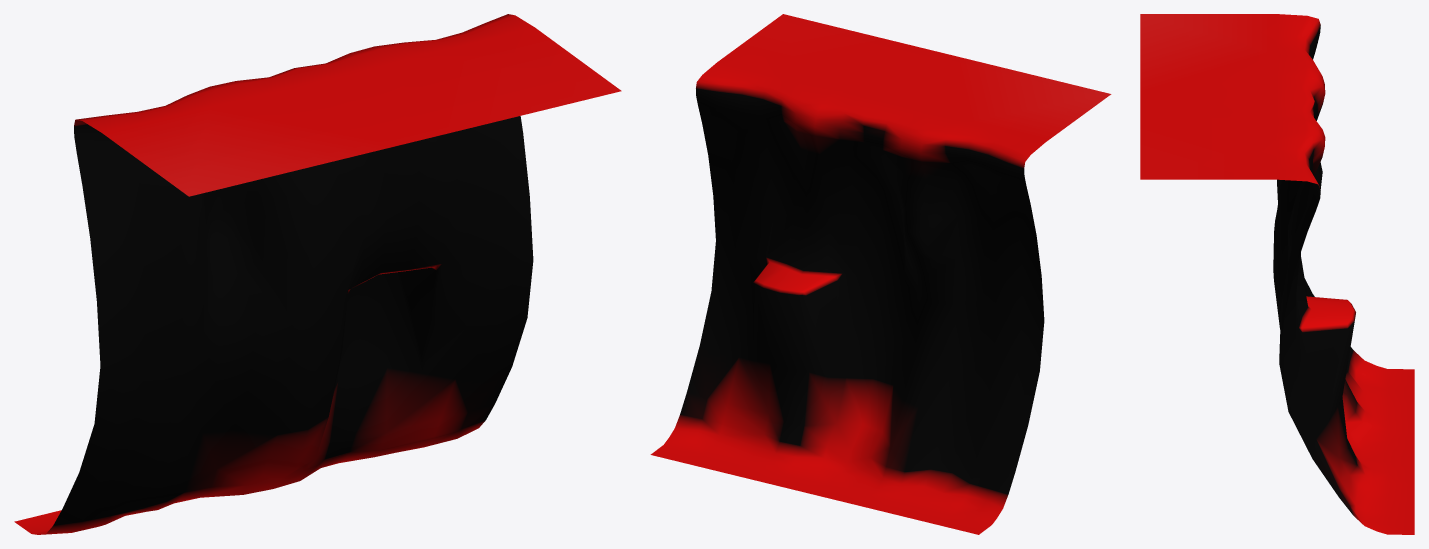
The model's file is GroundCliff01B 2M Background.fbx.
The picture shows the model from 3 angles, left to right: view 1: azimuth 30°, elevation 25°; view 2: azimuth 150°, elevation 25°; view 3: azimuth 270°, elevation 25°; orthographic projection. The views are drawn at different scales.
Parts seen in each view (by area): view 1: GroundCliff01B 2M Background; view 2: GroundCliff01B 2M Background; view 3: GroundCliff01B 2M Background.
Part boxes in pixels (box(x1,y1,x2,y2)): GroundCliff01B 2M Background: box(14, 14, 621, 534); GroundCliff01B 2M Background: box(650, 14, 1111, 534); GroundCliff01B 2M Background: box(1140, 14, 1414, 534).
Size of the model in its own units: 2 by 2 by 1.4.
